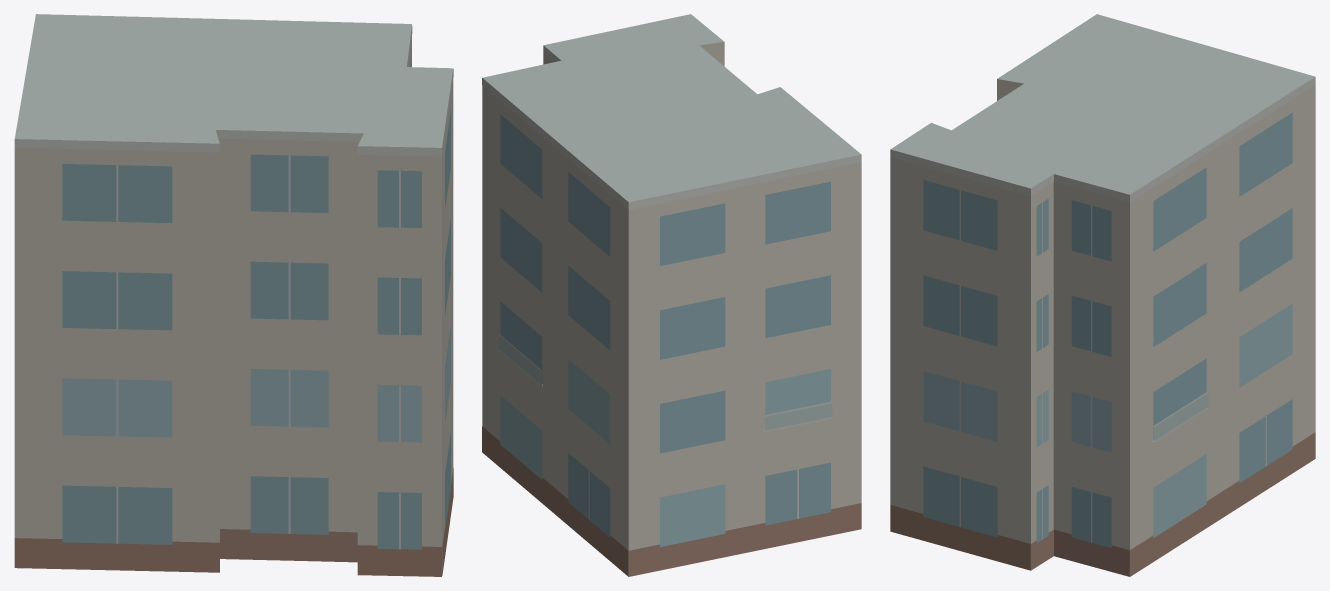
Rendered from survey-upis-32534702.glb.
The picture shows the model from 3 angles, left to right: view 1: azimuth 30°, elevation 25°; view 2: azimuth 150°, elevation 25°; view 3: azimuth 270°, elevation 25°; orthographic projection. The views are drawn at different scales.
Parts seen in each view (by area): view 1: survey-upis-32534702.tmp; view 2: survey-upis-32534702.tmp; view 3: survey-upis-32534702.tmp.
Part boxes in pixels (left/top/right/bottom): survey-upis-32534702.tmp: left=14, top=14, right=453, bottom=576; survey-upis-32534702.tmp: left=482, top=14, right=861, bottom=576; survey-upis-32534702.tmp: left=890, top=14, right=1315, bottom=576.
Bounding box in the file's own units: 12.14 × 11.95 × 12.06.
